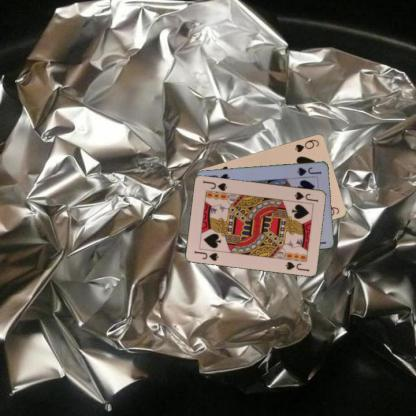6s: (292, 137, 320, 153)
Js: (192, 248, 220, 262), (292, 189, 319, 203), (295, 164, 322, 177)
